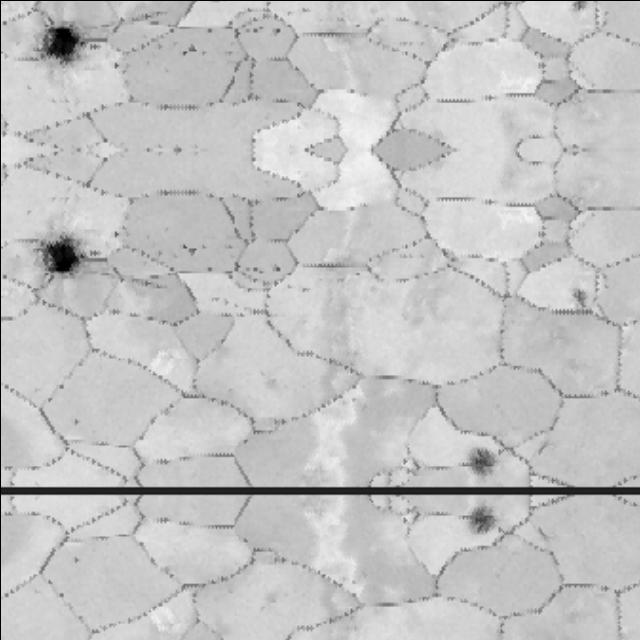good_void: (35, 227, 86, 279), (35, 20, 86, 71), (467, 448, 500, 475), (467, 507, 500, 534), (566, 282, 595, 312), (566, 0, 591, 16), (178, 240, 196, 262), (178, 36, 196, 58), (105, 55, 121, 74), (105, 225, 121, 243), (71, 417, 82, 430), (71, 552, 82, 565), (272, 261, 282, 274), (272, 24, 282, 37)
